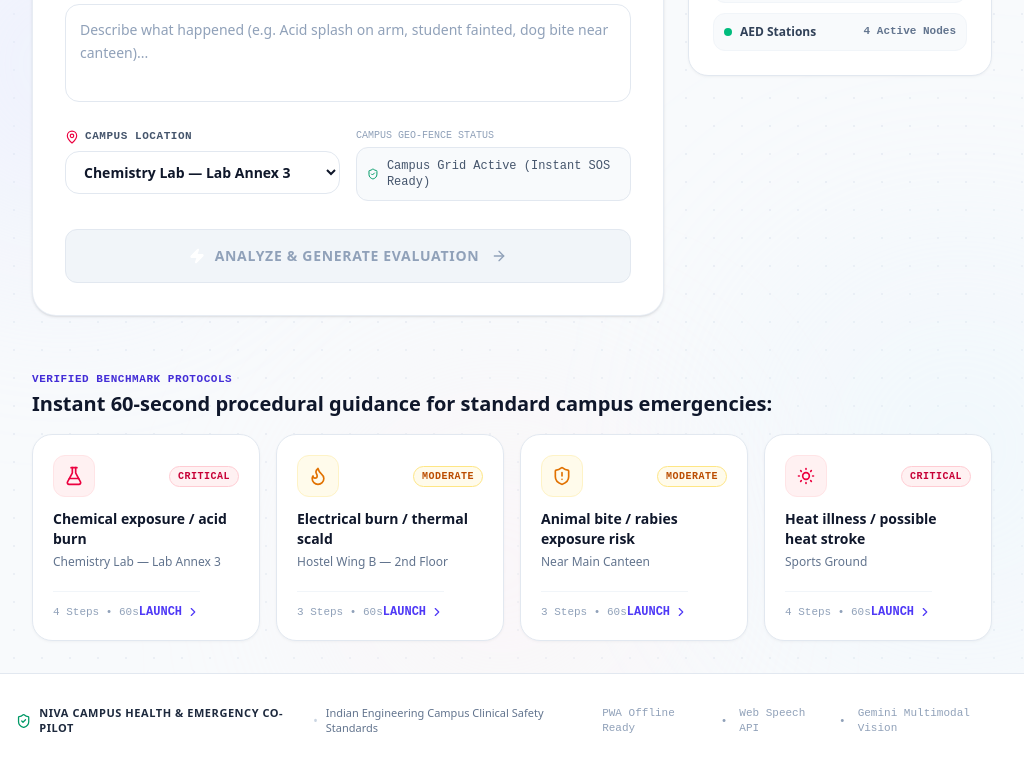
Test case: App Integration Flow › navigates back to IDLE state when Back to Intake Console button is clicked
(page scrolled)
What coordinates should you click on to do the following:
click the button "Chemical exposure / acid burn"
I would click on:
 (146, 538)
Its box is top-left (32, 434), bottom-right (260, 641).
(page scrolled)
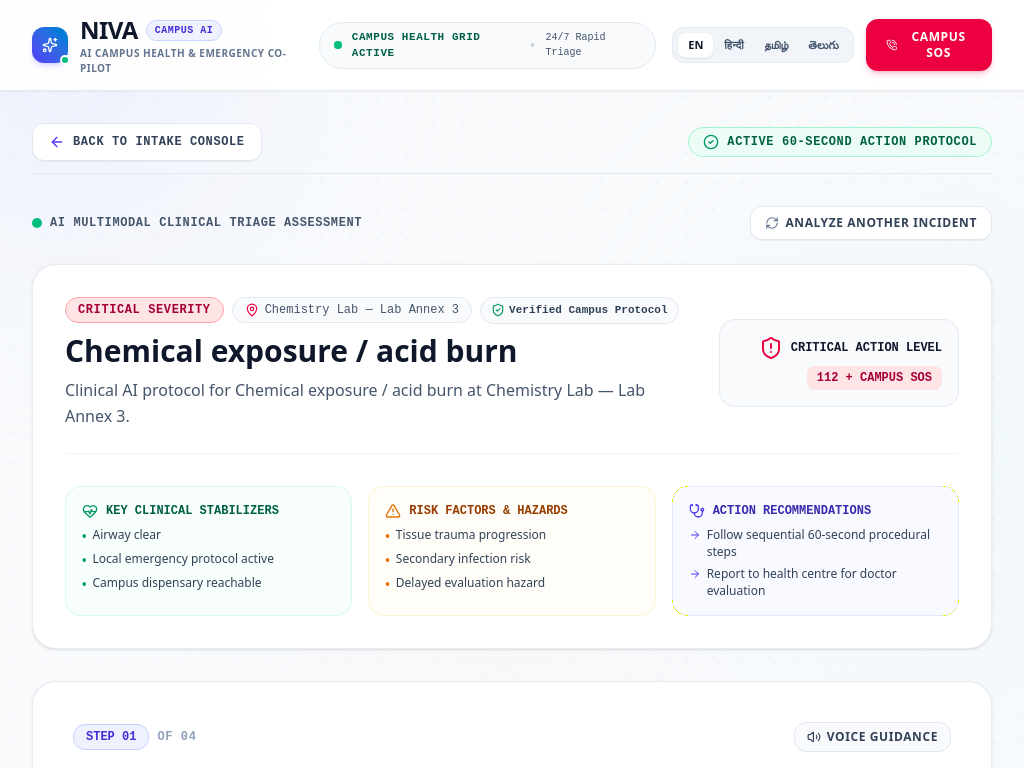
What coordinates should you click on to do the following:
click the button "BACK TO INTAKE CONSOLE"
I would click on:
 (147, 142)
Its box is top-left (32, 123), bottom-right (262, 161).
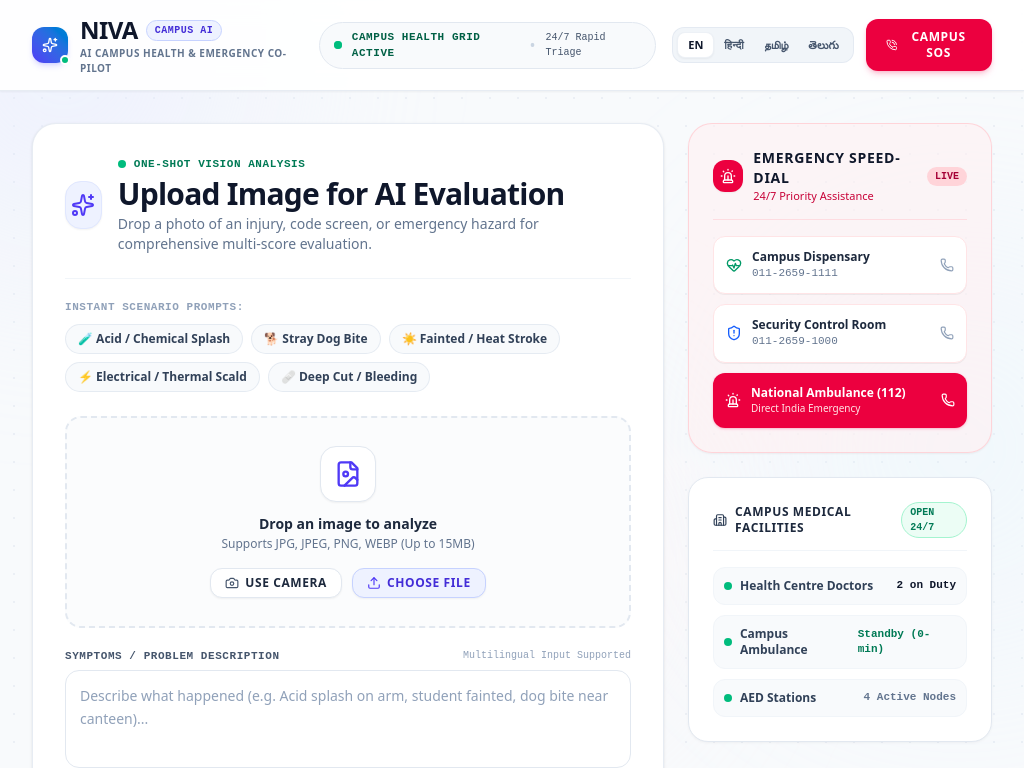
Result: the heading "Upload Image for AI Evaluation" is shown at top-left (118, 174), bottom-right (631, 212)
